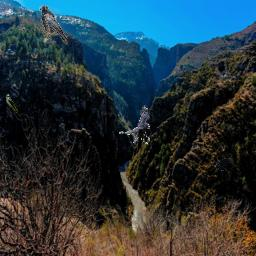Crow: (119, 105, 150, 145), (39, 5, 68, 45), (214, 158, 232, 172)
Swallow: (6, 94, 18, 113)
